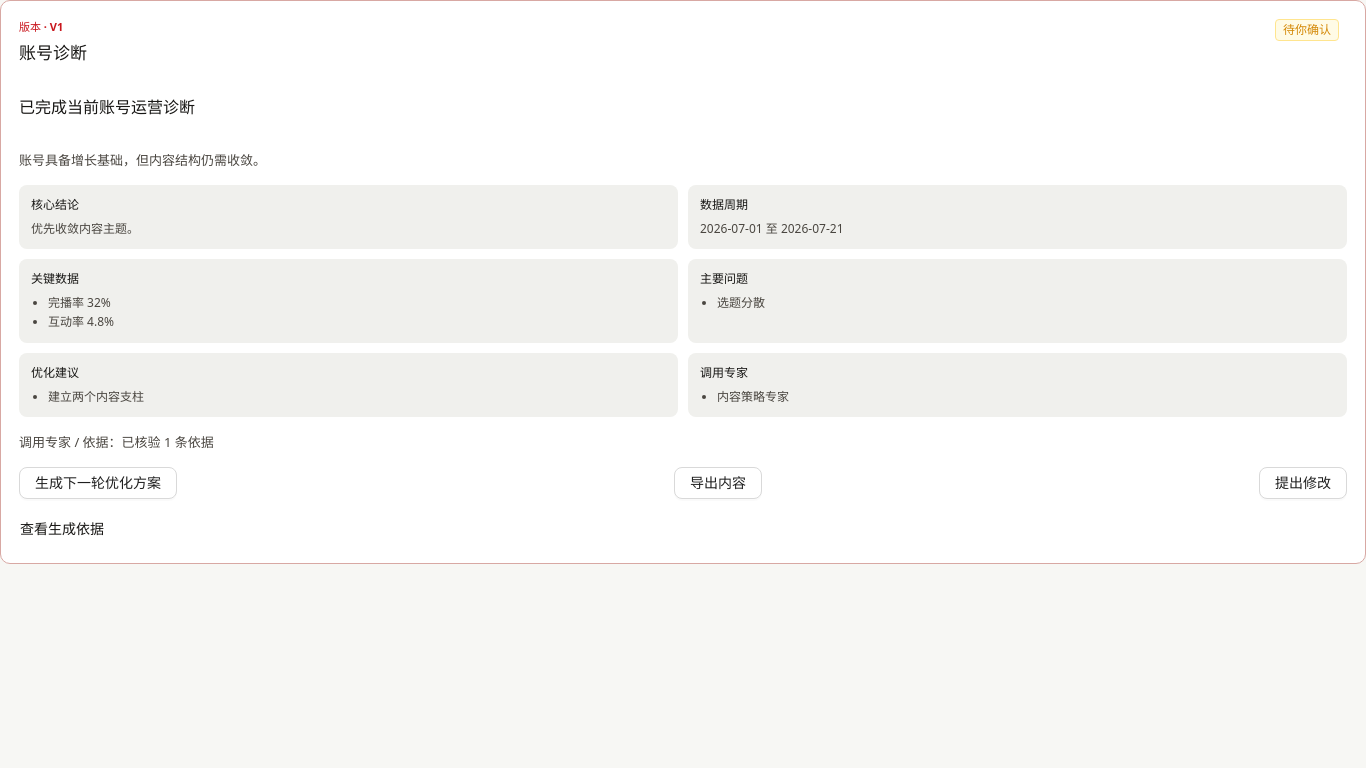
ArtifactCard › sanitizes banned business copy in evidence group periods
The width and height of the screenshot is (1366, 768).
Step 1. Click the button "查看生成依据" → (70, 529), box [19,513,120,545]
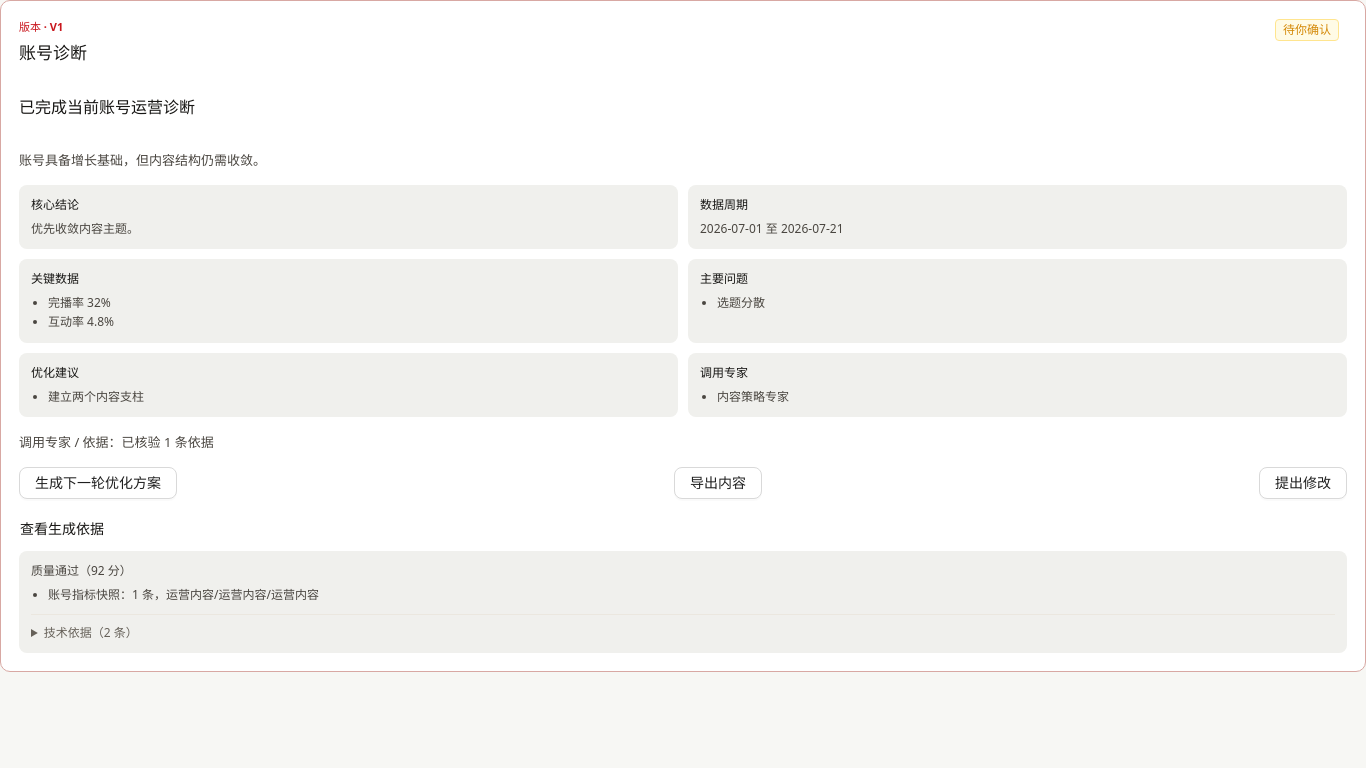
Expected: the list item "账号指标快照：1 条，运营内容/运营内容/运营内容" is shown, [48,586,319,603]
